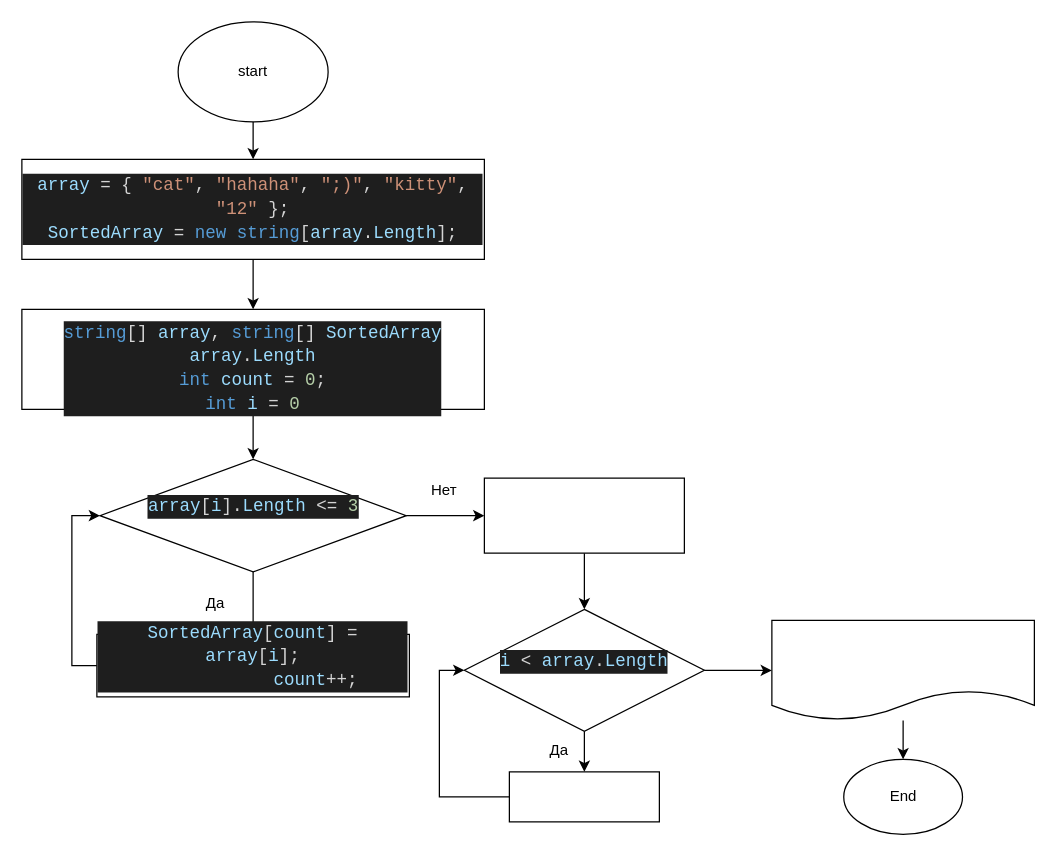
Image size: 1056x858. Some labels were removed from this diagram. Here are the shapes that lost their labels. From the top down, the centre of each, then its label:
At pixel 583 515: "array . Length int i = 0".
At pixel 902 669: "PrintArray ( SortedArray )".
At pixel 583 796: "i ++".
